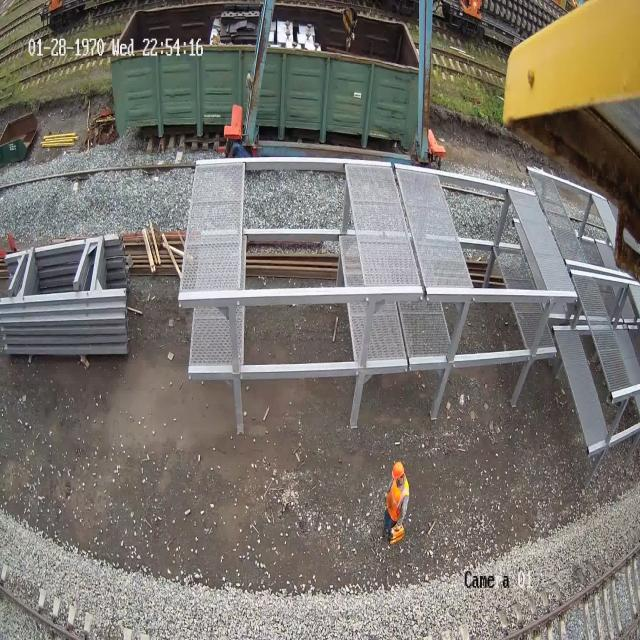Helmet: (392, 460, 404, 480)
Person: (383, 460, 410, 539)
